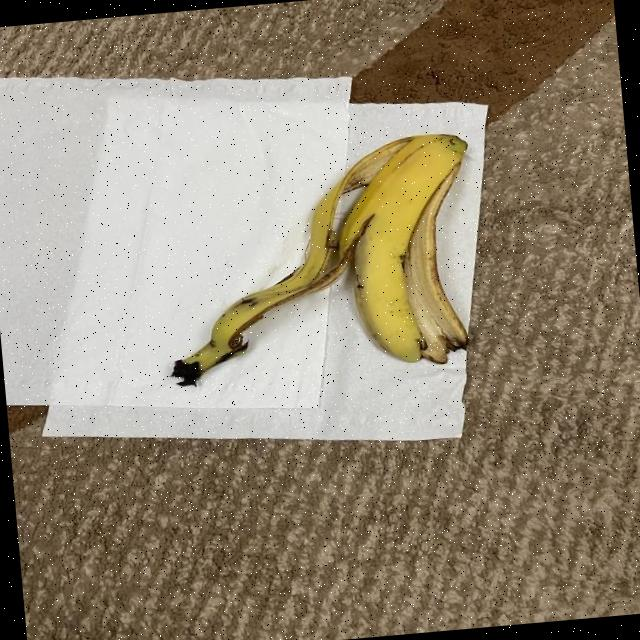banana-peel: (150, 127, 485, 390)
